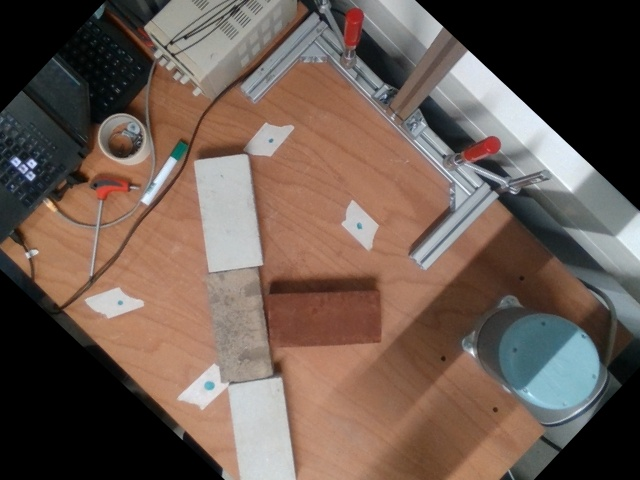brick: (198, 158, 258, 269), (213, 270, 268, 378), (232, 384, 292, 479), (269, 293, 375, 345)
